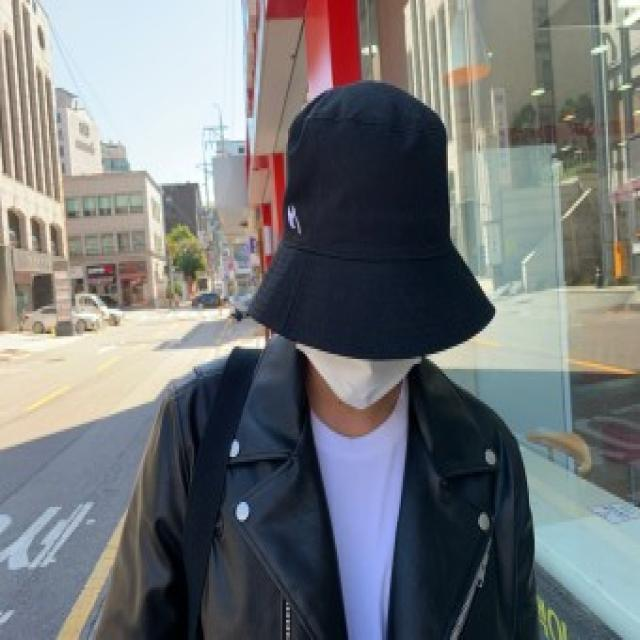hat: (231, 78, 499, 356)
